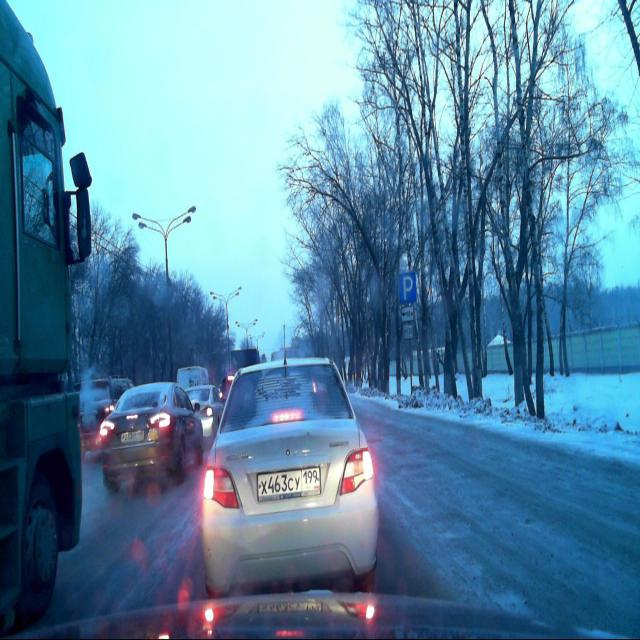road sign: (398, 271, 416, 302), (400, 307, 414, 321)
